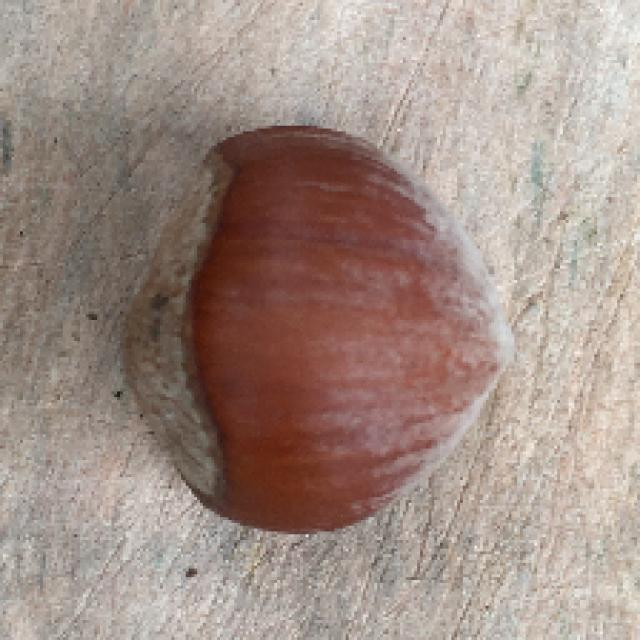qualityHazelnut: (120, 122, 522, 533)
